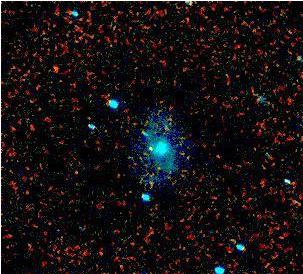star: (135, 132, 165, 162)
